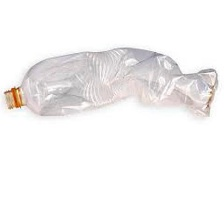bottle: (1, 38, 223, 127)
